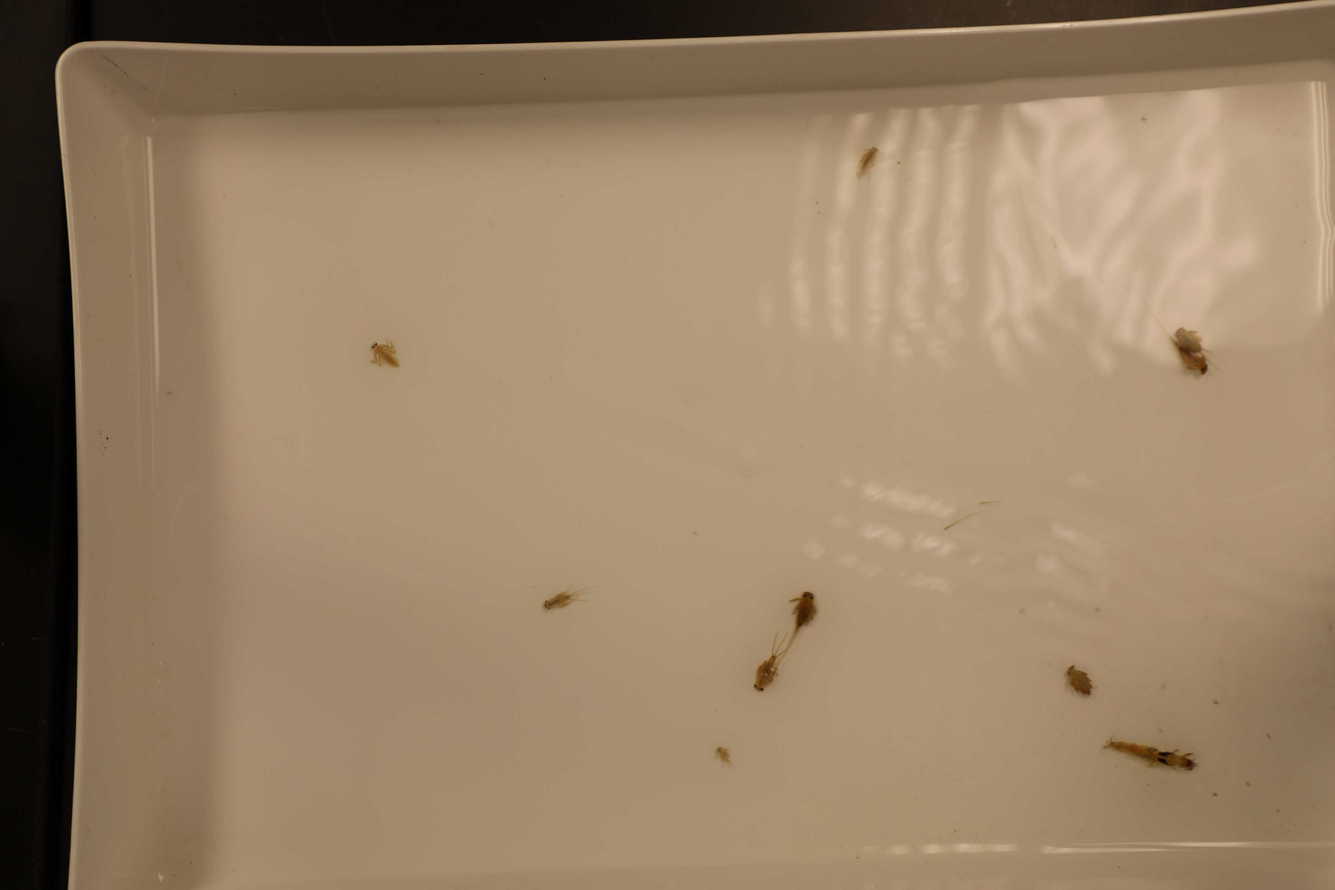Mayfly: (1141, 304, 1214, 380), (1103, 740, 1199, 771), (783, 581, 817, 649), (753, 627, 784, 697), (537, 581, 593, 611), (1065, 662, 1095, 698), (854, 142, 883, 178), (367, 335, 398, 368), (715, 743, 736, 766)
